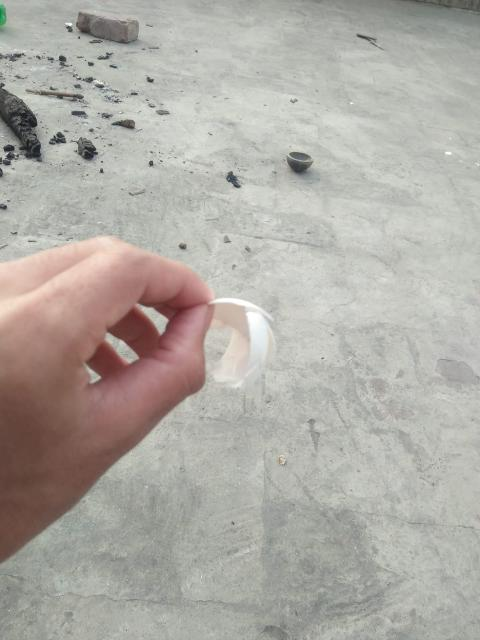Roto: (204, 296, 281, 391)
